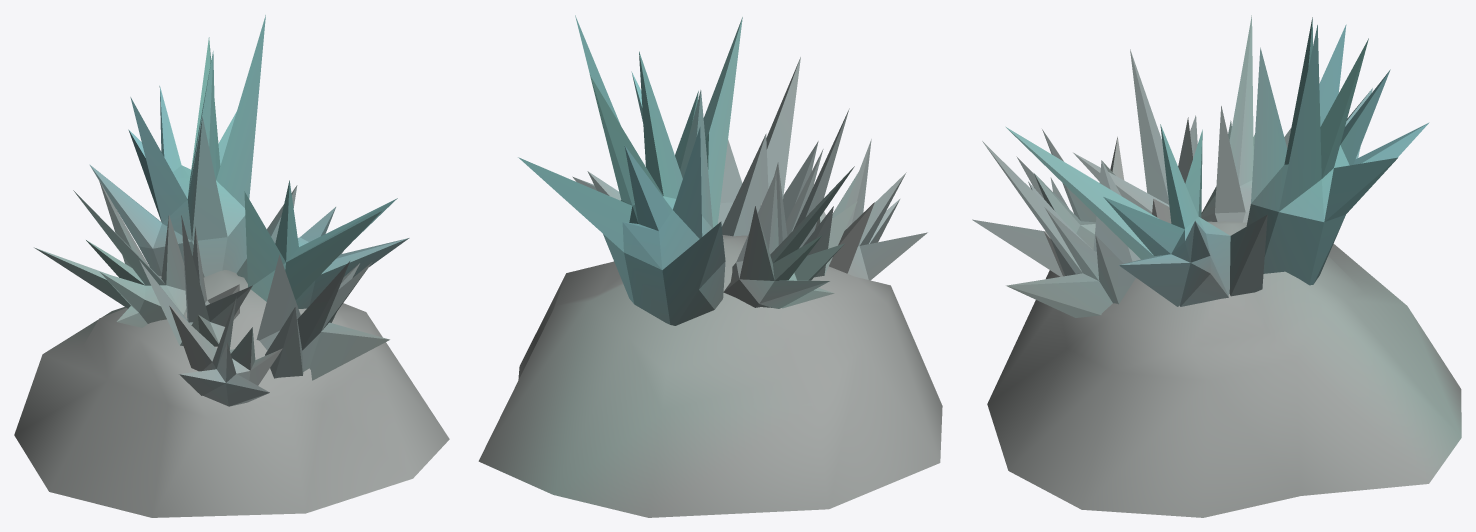
The picture shows the model from 3 angles, left to right: view 1: azimuth 30°, elevation 25°; view 2: azimuth 150°, elevation 25°; view 3: azimuth 270°, elevation 25°; orthographic projection. The views are drawn at different scales.
Visible parts, largest first — view 1: G:\FFXIV-MapTools\exports\l1f1\bg\ffxiv\lak_l1\fld\l1f1\bgpa; view 2: G:\FFXIV-MapTools\exports\l1f1\bg\ffxiv\lak_l1\fld\l1f1\bgpa; view 3: G:\FFXIV-MapTools\exports\l1f1\bg\ffxiv\lak_l1\fld\l1f1\bgpa.
Part boxes in pixels (x1,y1,x2,y2): G:\FFXIV-MapTools\exports\l1f1\bg\ffxiv\lak_l1\fld\l1f1\bgpa: [14, 15, 449, 517]; G:\FFXIV-MapTools\exports\l1f1\bg\ffxiv\lak_l1\fld\l1f1\bgpa: [478, 15, 942, 517]; G:\FFXIV-MapTools\exports\l1f1\bg\ffxiv\lak_l1\fld\l1f1\bgpa: [972, 15, 1461, 517].
Size of the model in its own units: 2.46 by 2.37 by 2.4.
